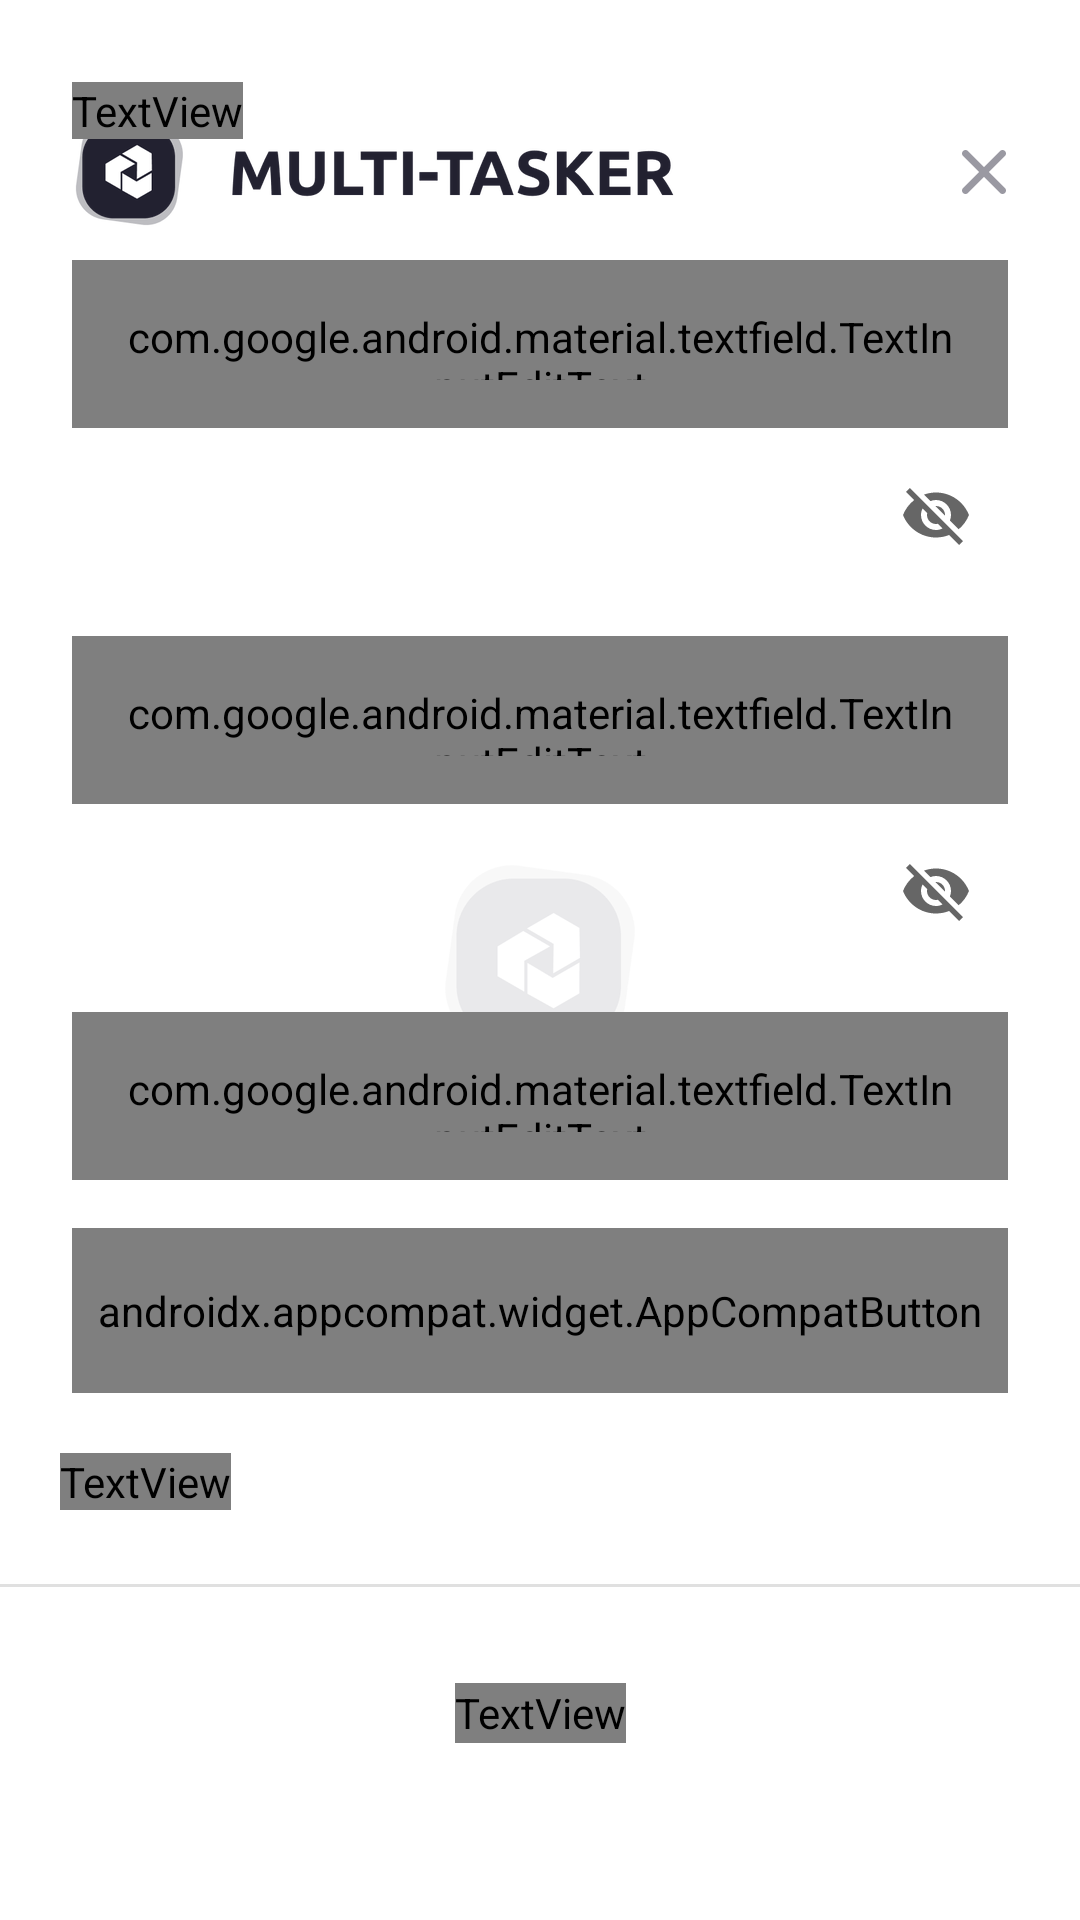

Icons on this 1080 × 1920 Android screen, each with its box as (x1, y1, x2, y2):
close: (962, 150, 1006, 194)
